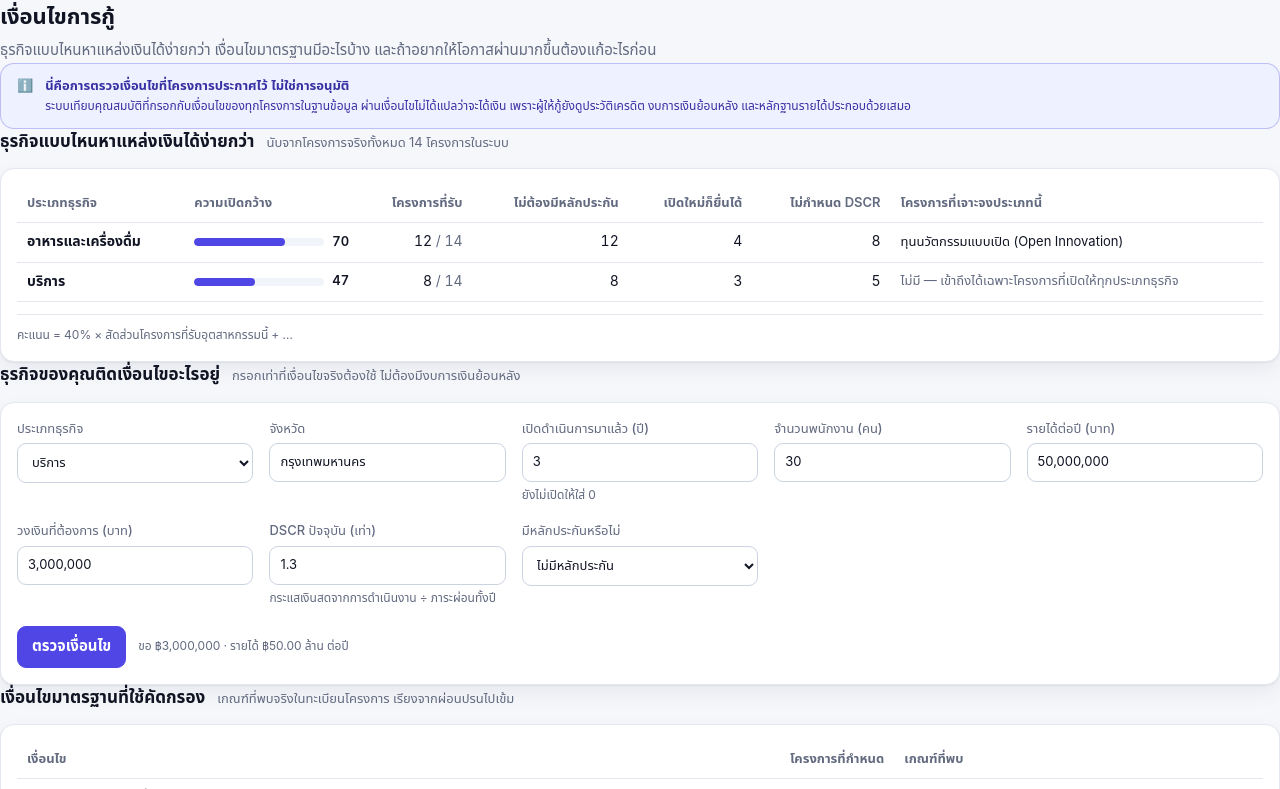
Test case: ผลรวมและรายโครงการ › แสดงจำนวนที่ผ่านเทียบกับทั้งหมด
The width and height of the screenshot is (1280, 789).
Click the button "ตรวจเงื่อนไข".
click(72, 647)  # box 17,626 -> 126,668
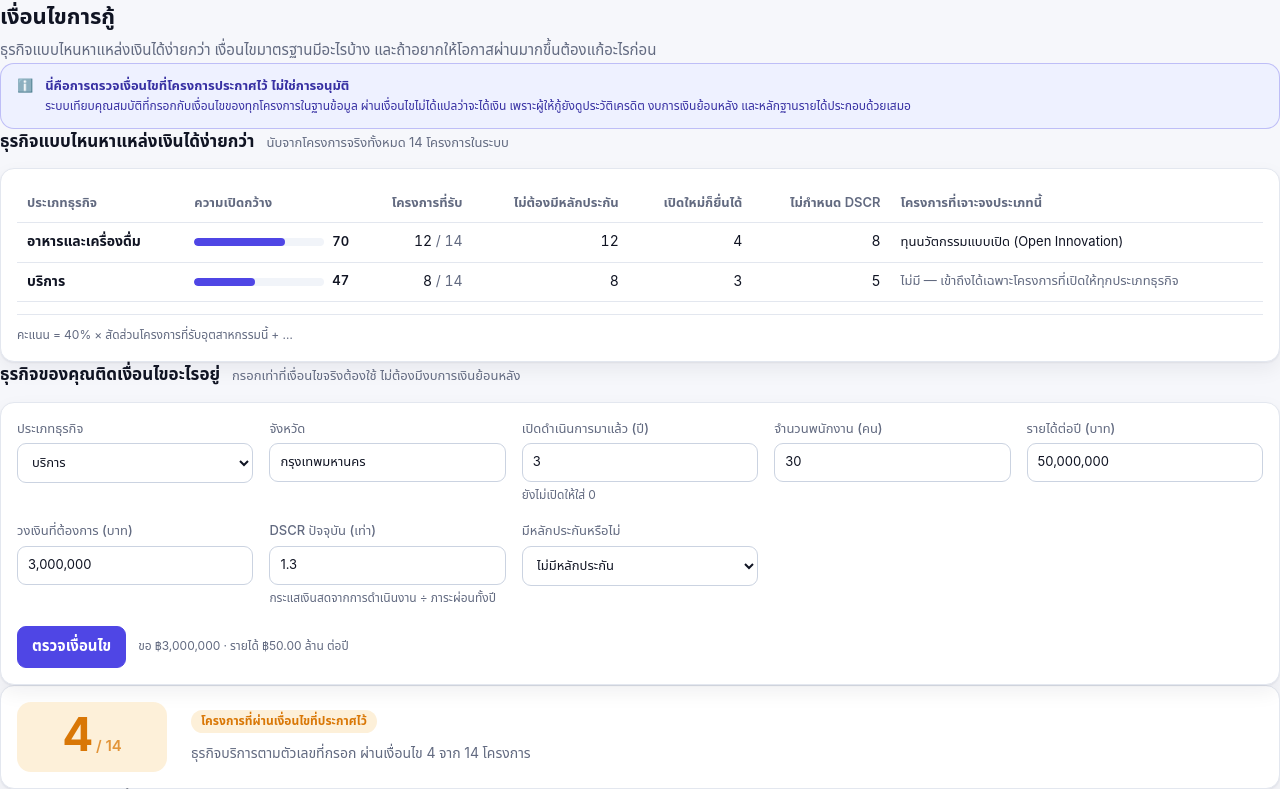
Expected: the text "4" is shown, 62,714 -> 92,760
Expected: the text "/ 14" below "โครงการที่ผ่านเงื่อนไขที่ประกาศไว้" is shown, 96,735 -> 122,759
Expected: the text "ธุรกิจบริการตามตัวเลขที่กรอก ผ่านเงื่อนไข 4 จาก 14 โครงการ" is shown, 191,743 -> 531,764
